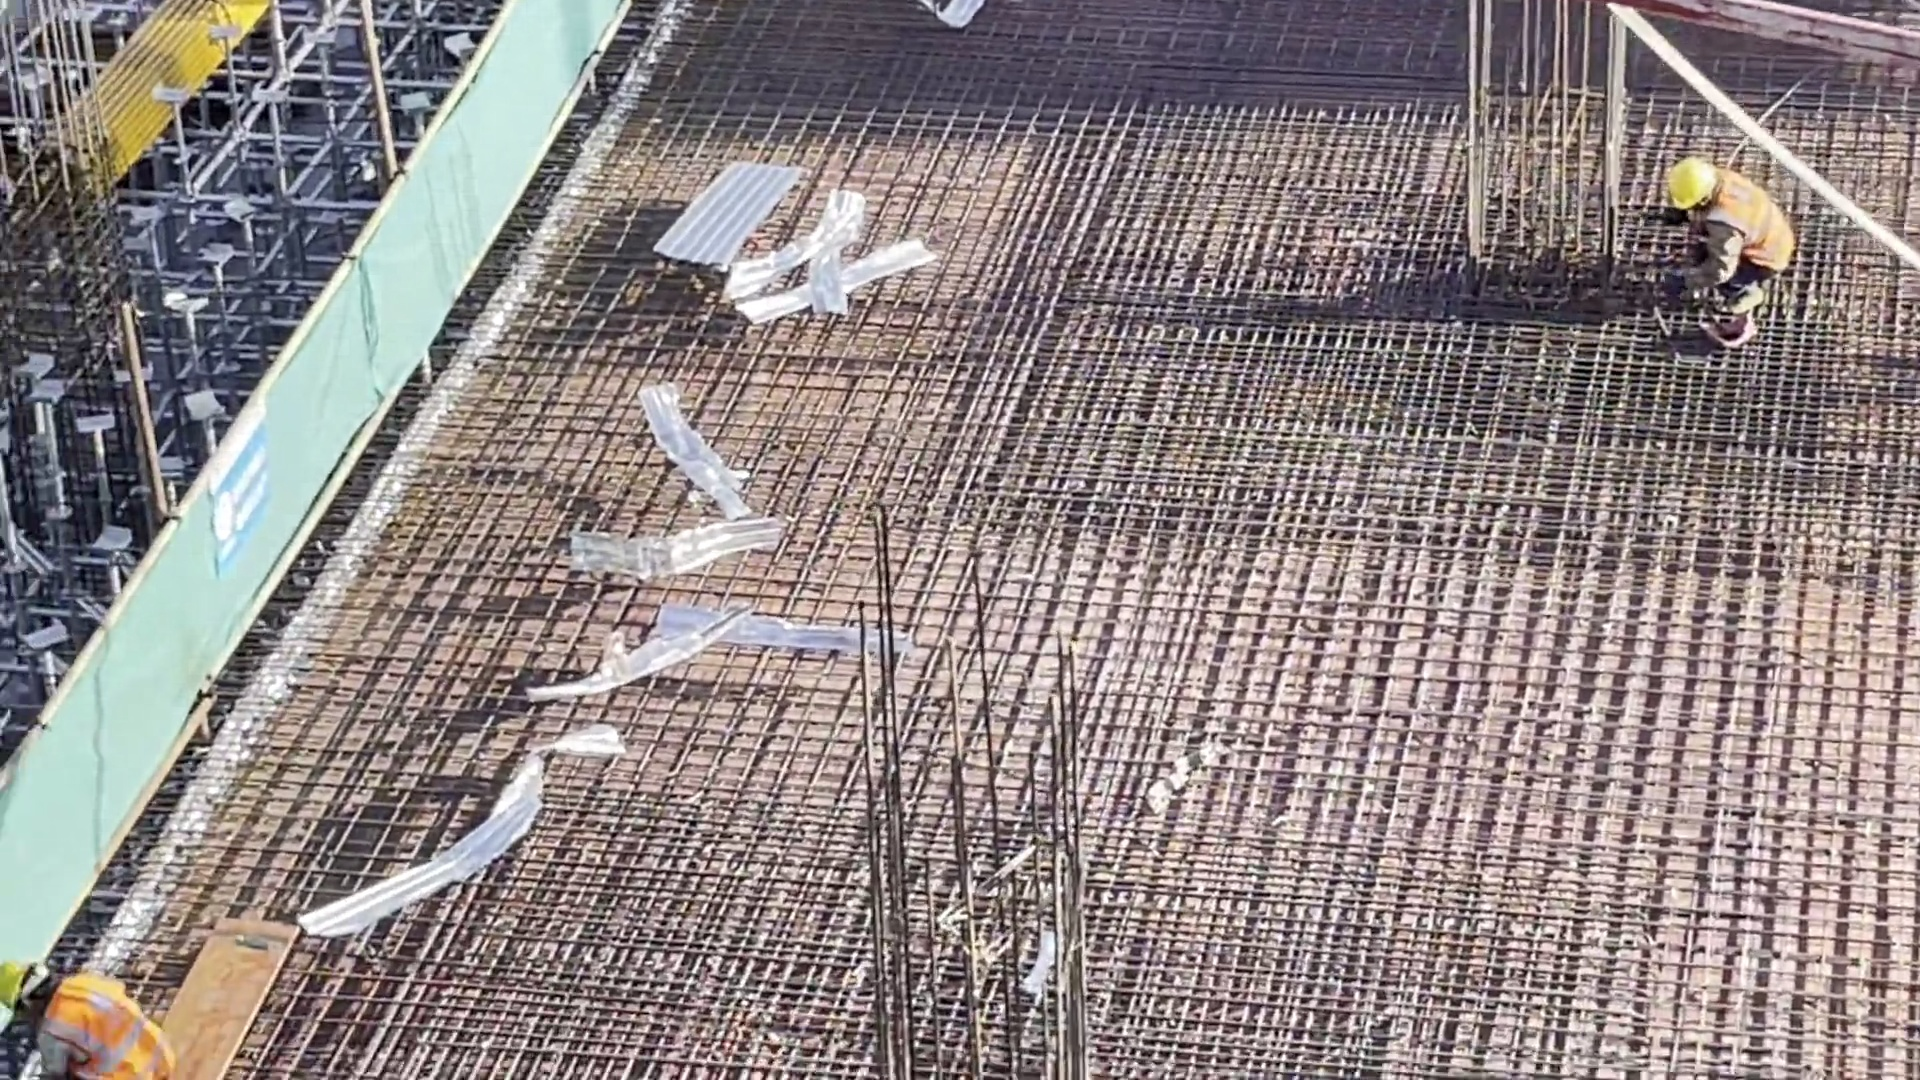helmet: (1662, 163, 1709, 207), (1, 957, 37, 995)
person: (1658, 148, 1806, 367), (1, 954, 186, 1077)
slogan: (214, 441, 265, 555)
vest: (51, 983, 172, 1080), (1700, 178, 1796, 271)
